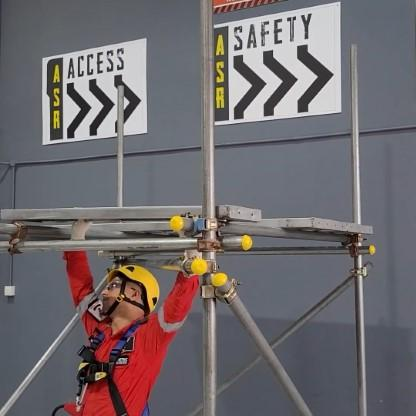helmet: (91, 252, 167, 325)
